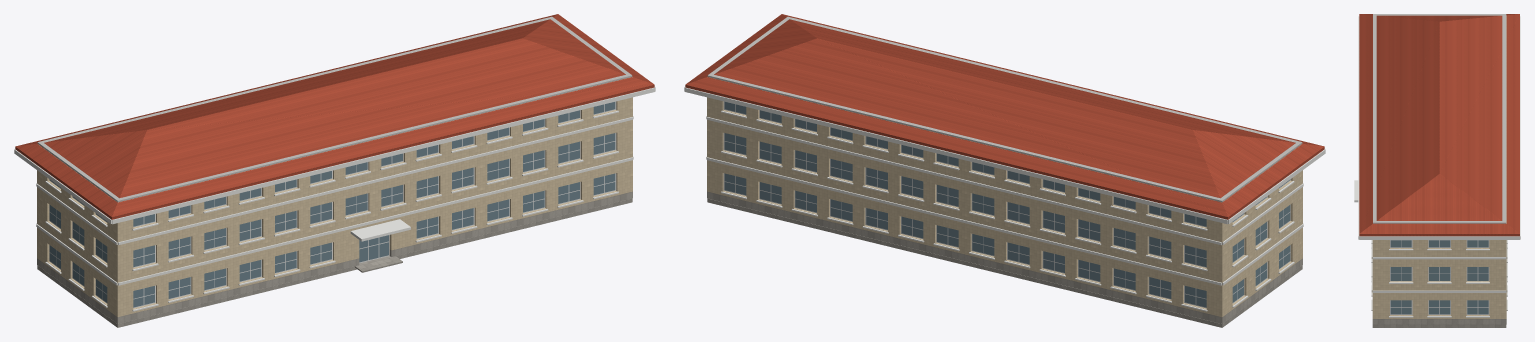
The picture shows the model from 3 angles, left to right: view 1: azimuth 30°, elevation 25°; view 2: azimuth 150°, elevation 25°; view 3: azimuth 270°, elevation 25°; orthographic projection. The views are drawn at different scales.
Parts seen in each view (by area): view 1: senior-boys__roof, senior-boys__tile, senior-boys__glass, senior-boys__trim, senior-boys__stone, senior-boys__slab, senior-boys__frame; view 2: senior-boys__roof, senior-boys__tile, senior-boys__glass, senior-boys__trim, senior-boys__stone, senior-boys__slab, senior-boys__frame; view 3: senior-boys__roof, senior-boys__tile, senior-boys__trim, senior-boys__slab, senior-boys__glass, senior-boys__stone, senior-boys__frame.
Boxes of the visible parts, x1,y1,x2,y2 form: senior-boys__roof: (15, 14, 654, 219); senior-boys__tile: (37, 77, 632, 316); senior-boys__glass: (49, 102, 615, 307); senior-boys__trim: (14, 87, 655, 311); senior-boys__stone: (37, 191, 632, 327); senior-boys__slab: (37, 16, 632, 202); senior-boys__frame: (49, 101, 616, 308); senior-boys__roof: (685, 14, 1324, 219); senior-boys__tile: (707, 77, 1302, 316); senior-boys__glass: (724, 102, 1290, 307); senior-boys__trim: (684, 87, 1325, 311); senior-boys__stone: (707, 191, 1302, 327); senior-boys__slab: (707, 16, 1302, 202); senior-boys__frame: (723, 101, 1290, 308); senior-boys__roof: (1359, 14, 1519, 236); senior-boys__tile: (1372, 15, 1506, 318); senior-boys__trim: (1354, 16, 1520, 317); senior-boys__slab: (1373, 14, 1506, 223); senior-boys__glass: (1390, 240, 1488, 314); senior-boys__stone: (1372, 319, 1506, 327); senior-boys__frame: (1390, 240, 1489, 314).
Size of the model in its own units: 50.78 by 13.5 by 16.19.
Materials: 8 (3 with a texture image).
